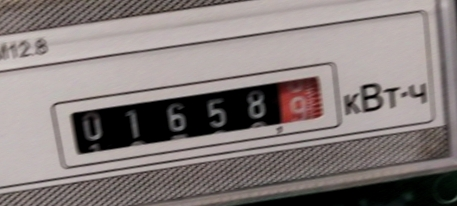0: (79, 111, 103, 144)
1: (121, 108, 143, 142)
5: (203, 97, 228, 130)
6: (163, 100, 188, 136)
8: (243, 87, 268, 122)
9: (285, 95, 310, 126)
screen: (40, 52, 349, 180)
